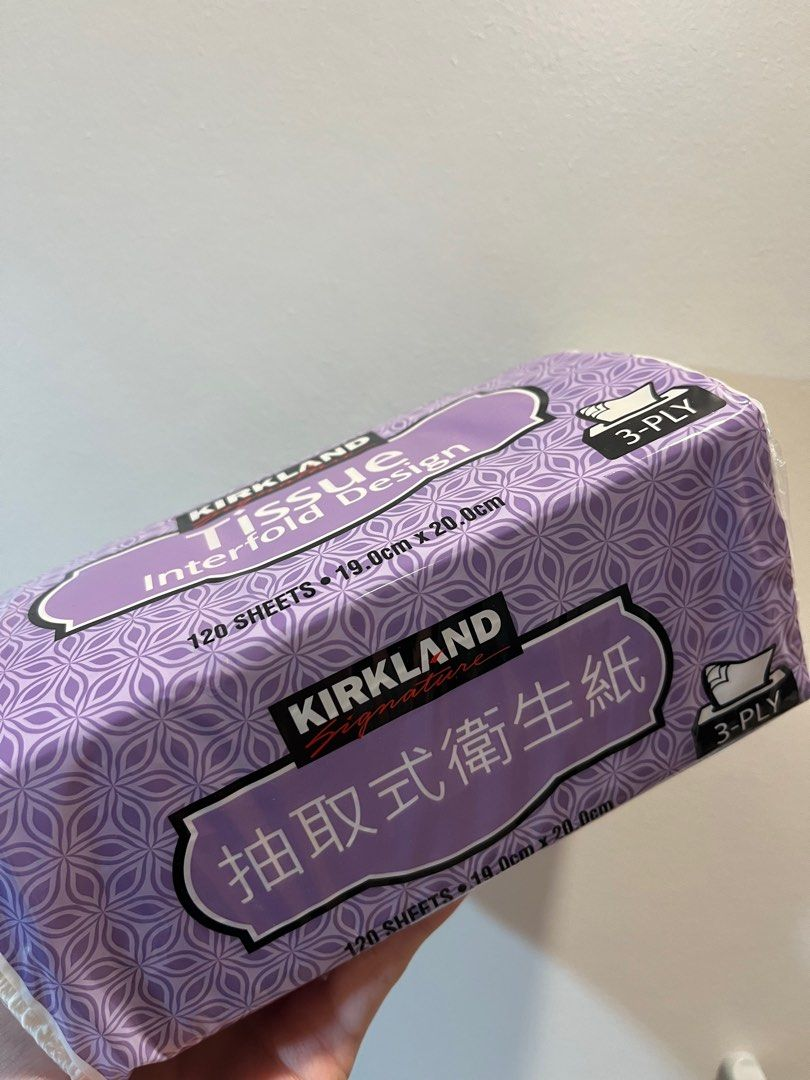tissue: (10, 337, 808, 1055)
